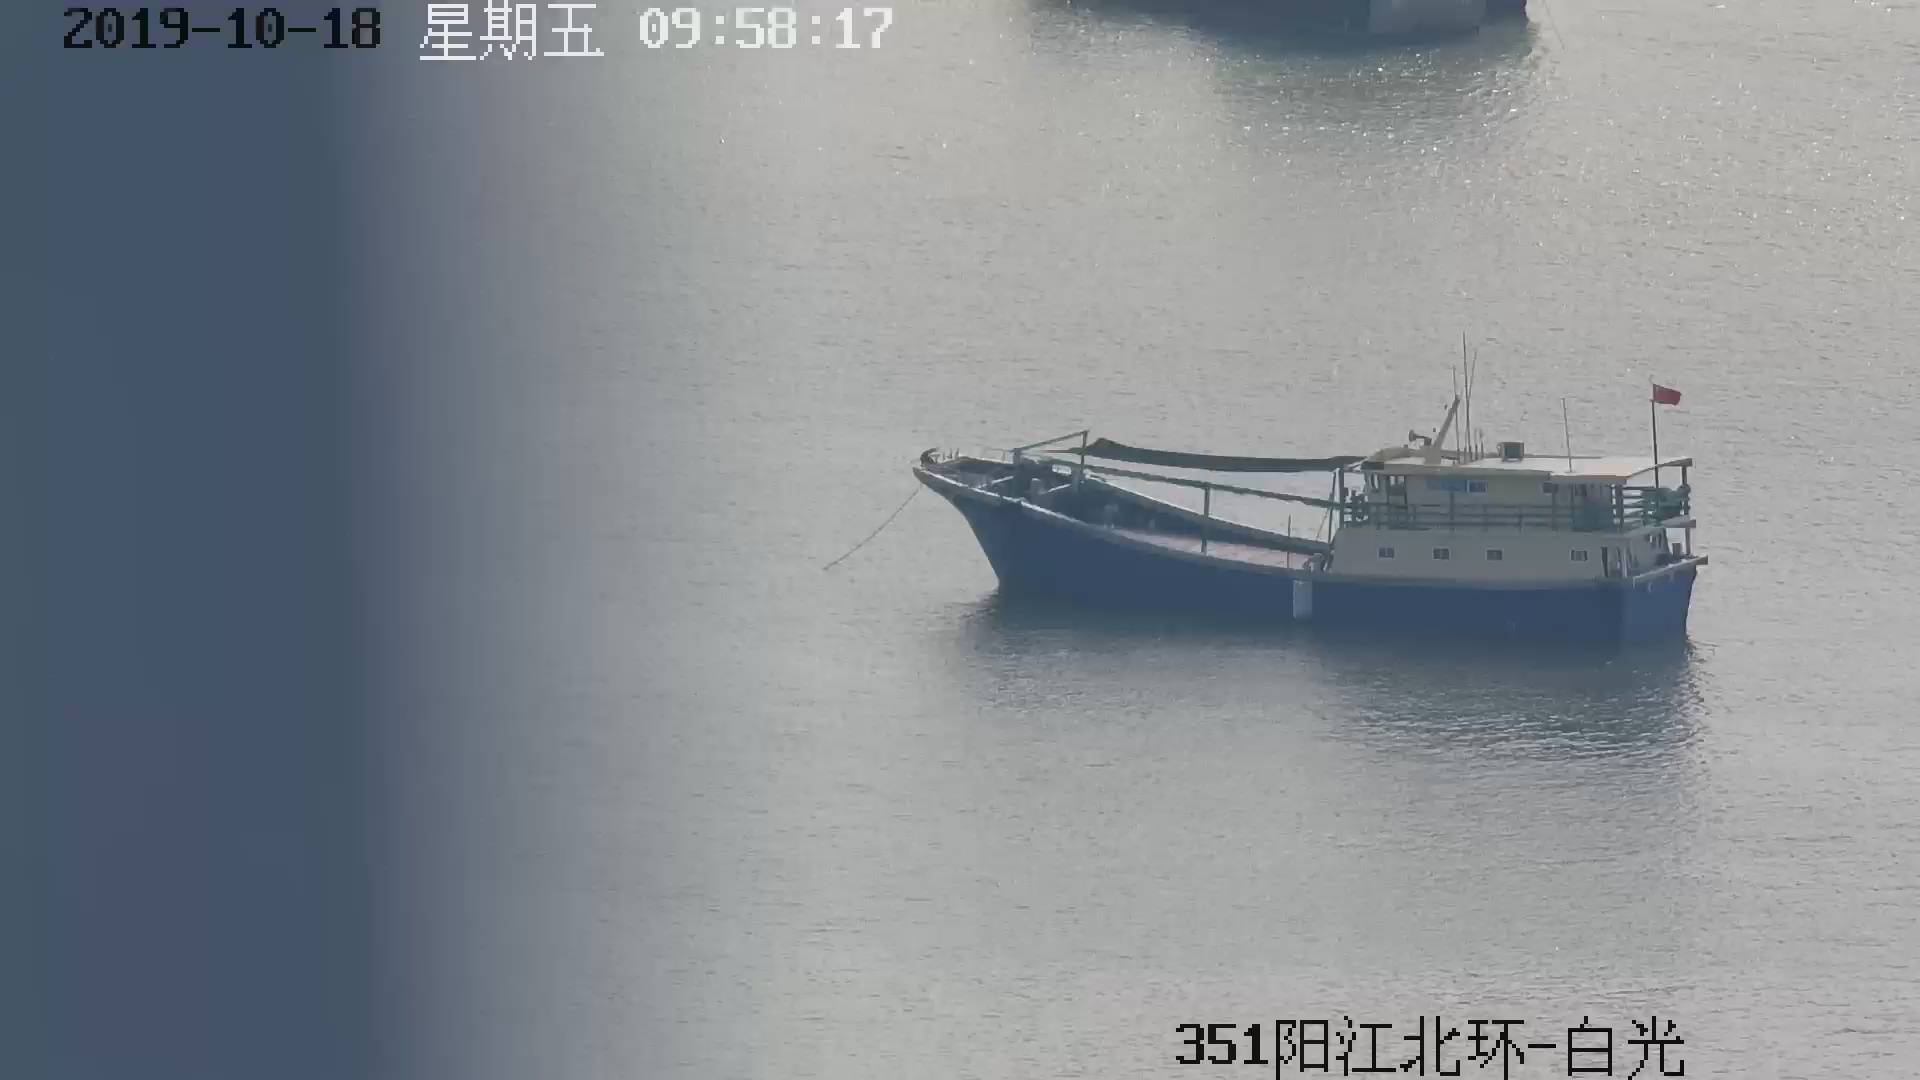ship: (909, 330, 1706, 625)
